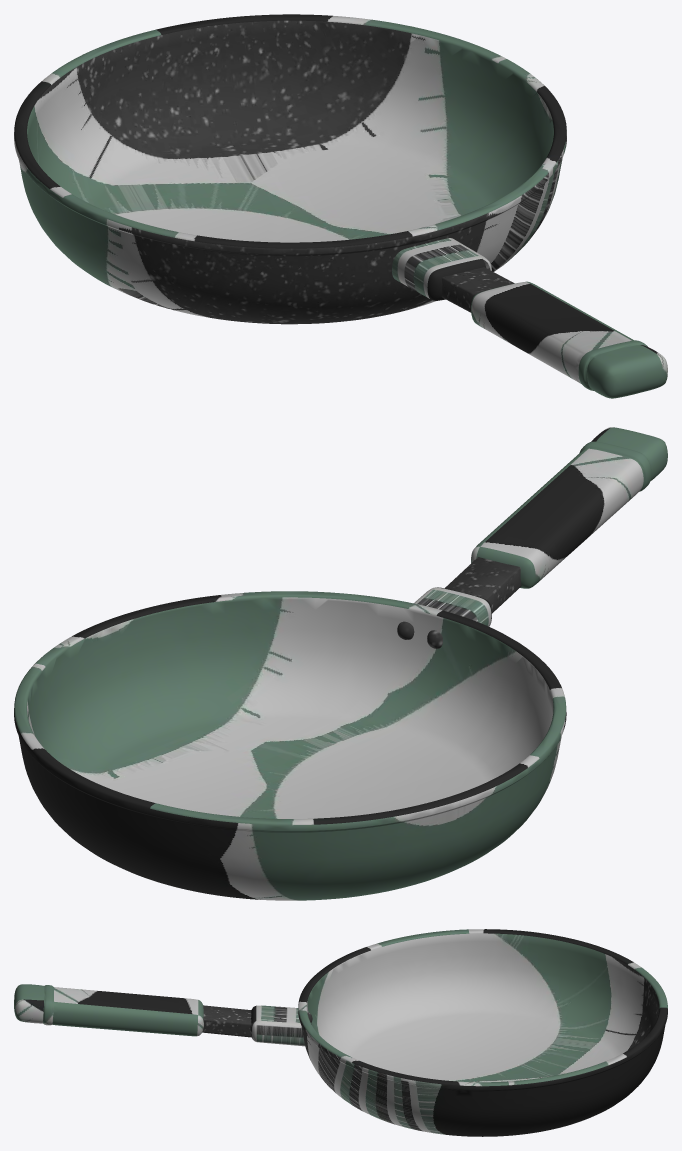
File: kitchenware_pan_n01.glb
The picture shows the model from 3 angles, top to bottom: view 1: azimuth 30°, elevation 25°; view 2: azimuth 150°, elevation 25°; view 3: azimuth 270°, elevation 25°; orthographic projection. The views are drawn at different scales.
Visible parts, largest first — view 1: sm_kitchenware_pan_n01_mesh_00_0; view 2: sm_kitchenware_pan_n01_mesh_00_0; view 3: sm_kitchenware_pan_n01_mesh_00_0.
Part boxes in pixels (x1,y1,x2,y2): sm_kitchenware_pan_n01_mesh_00_0: (14,14,667,398); sm_kitchenware_pan_n01_mesh_00_0: (14,427,667,900); sm_kitchenware_pan_n01_mesh_00_0: (14,929,667,1136).
Bounding box in the file's own units: 0.204 × 0.0525 × 0.3596.
1 material, 1 textured.
